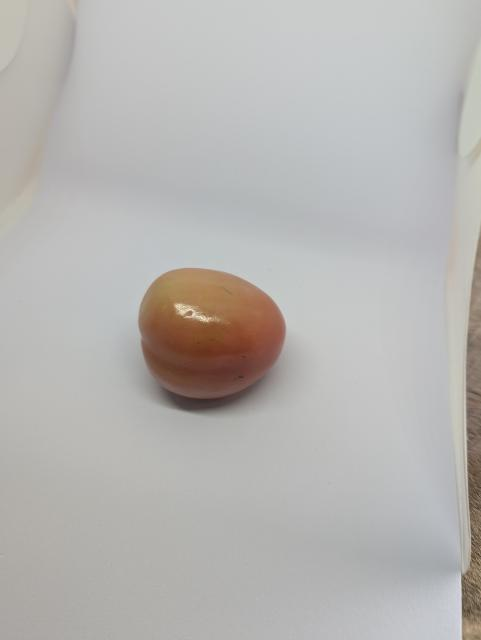turning: (133, 259, 294, 409)
